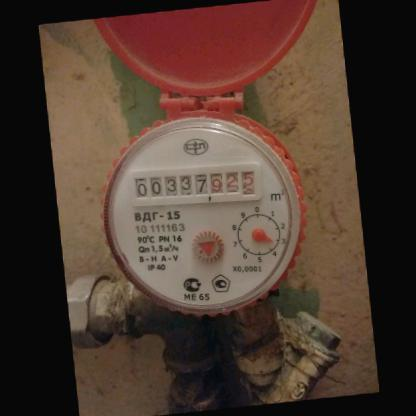digital_screen: (126, 165, 211, 207)
